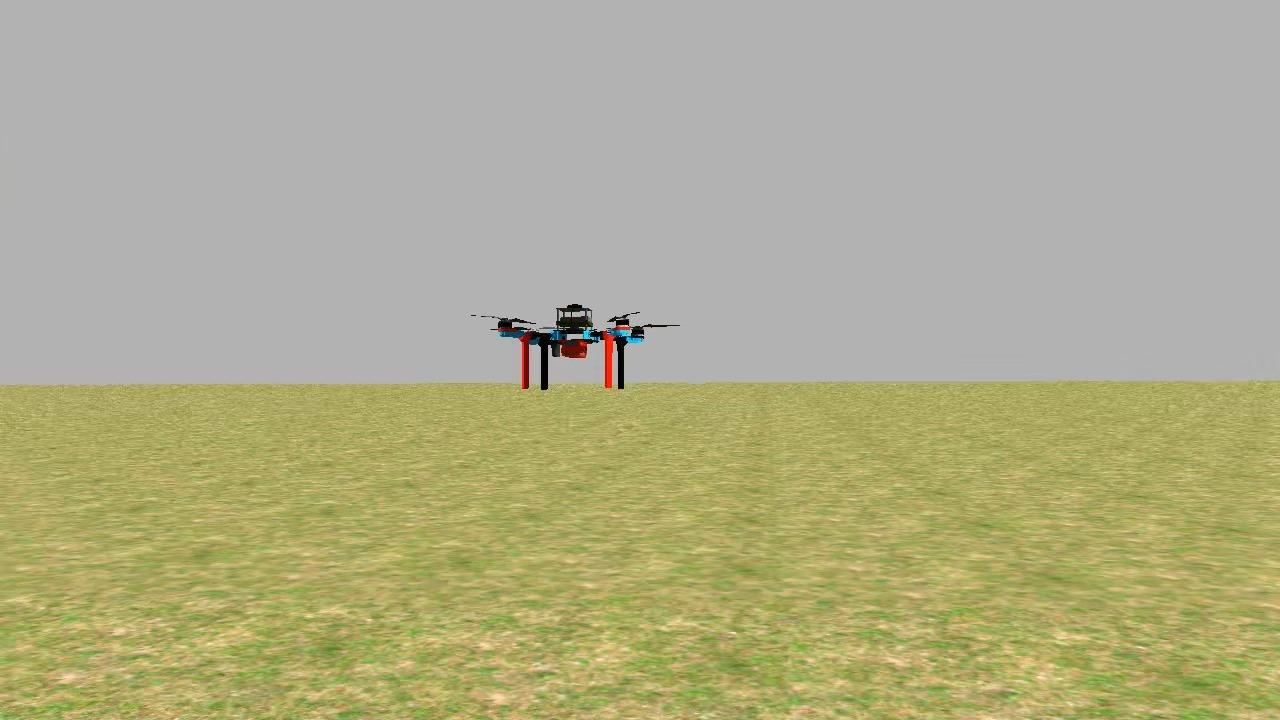UAV: (490, 288, 652, 406)
